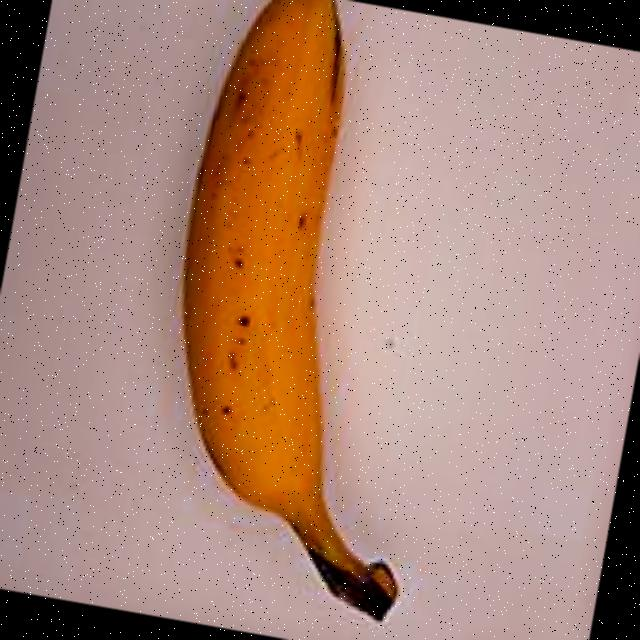Ripe: (90, 0, 536, 640)
